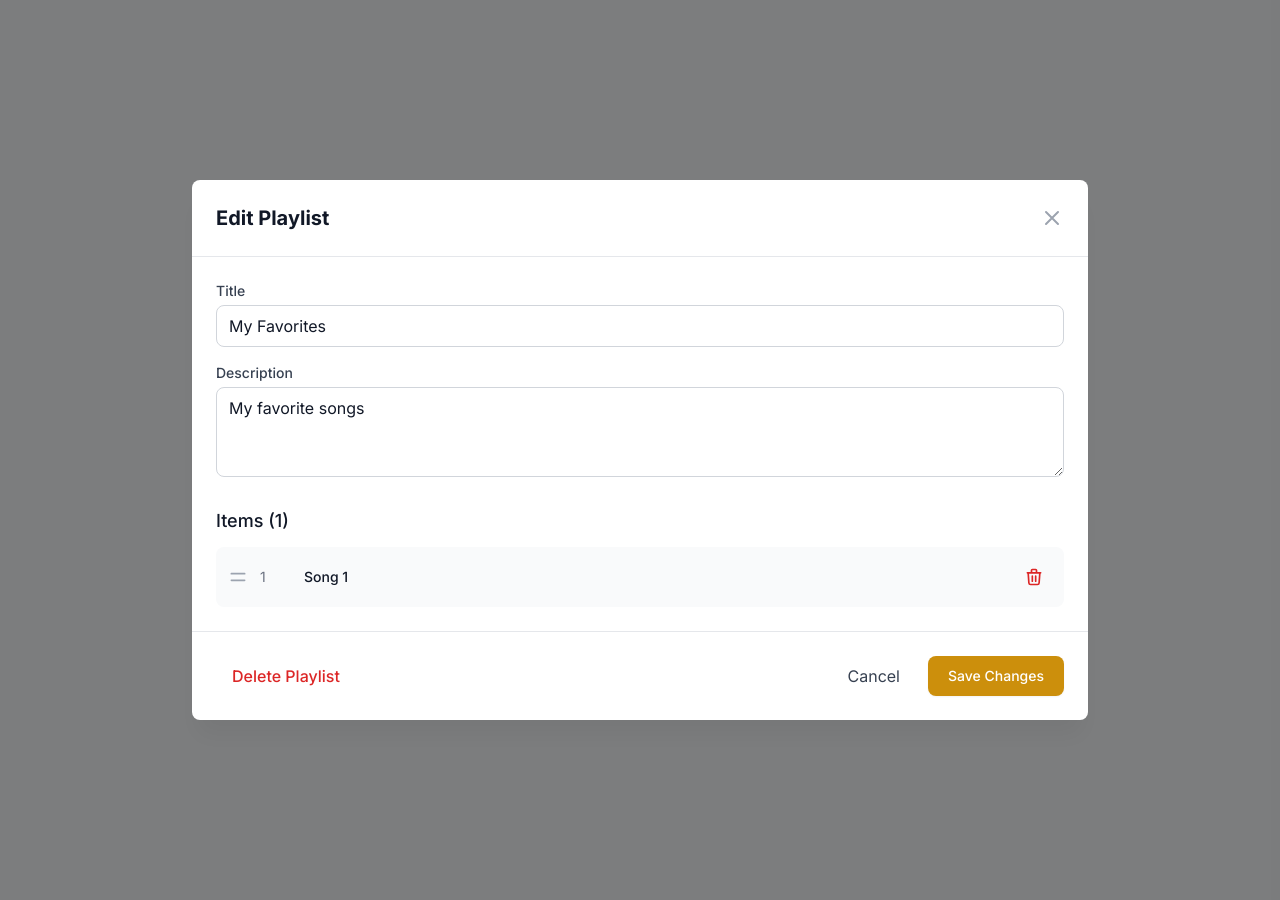
Test: PlaylistEditor › should display error when item has no playlistItemID
Expected: the text "Song 1" is shown, [304, 568, 348, 585]
Click the button titled "Remove from playlist" at (1034, 577), box [1016, 559, 1052, 595]
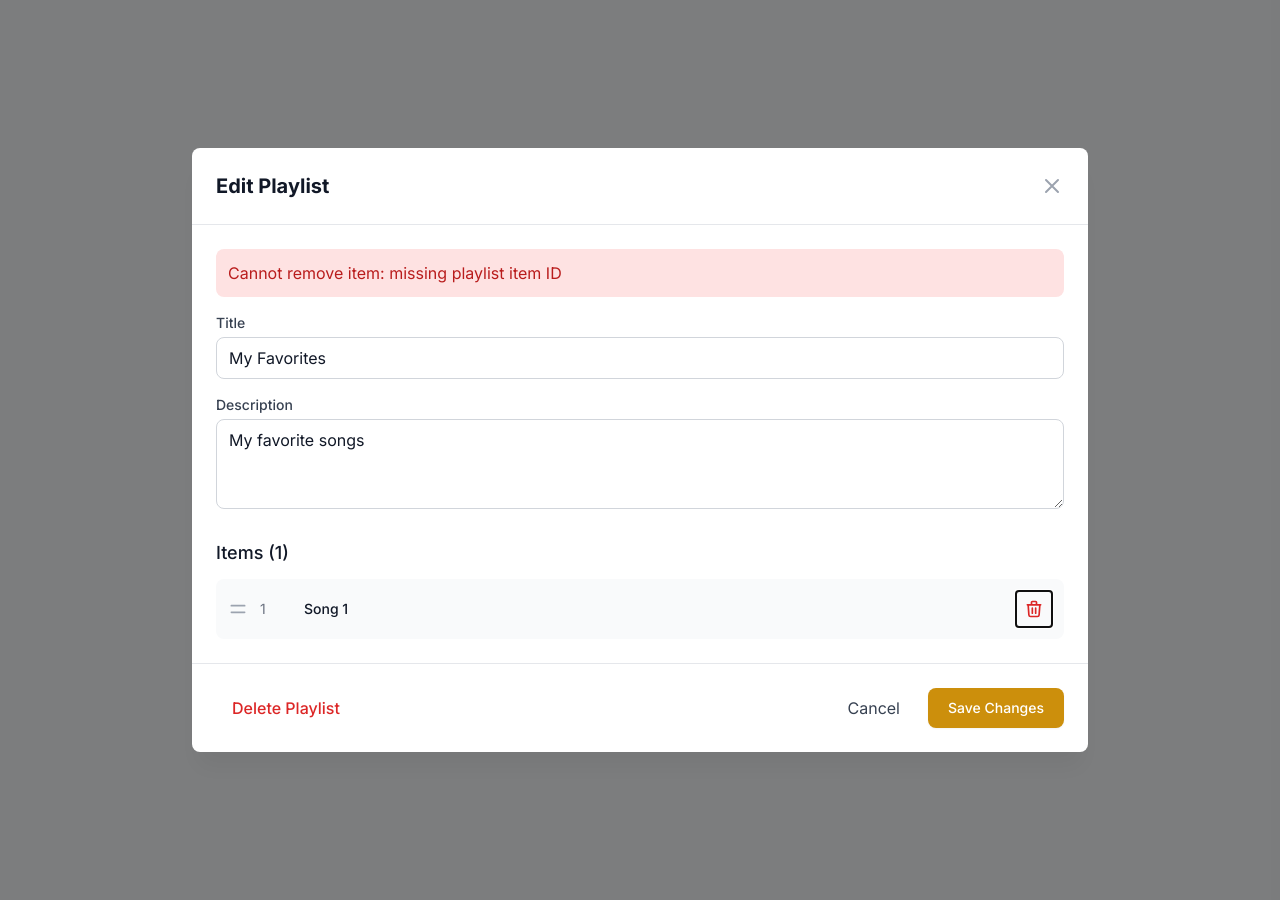
Result: the text "Cannot remove item: missing playlist item ID" is shown at [216, 249, 1064, 297]
